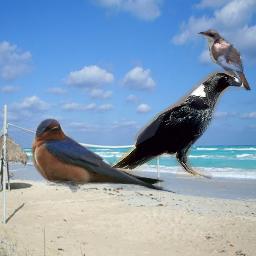Crow: (110, 71, 244, 179)
Cuckoo: (197, 28, 251, 92)
Swallow: (30, 118, 179, 195)
